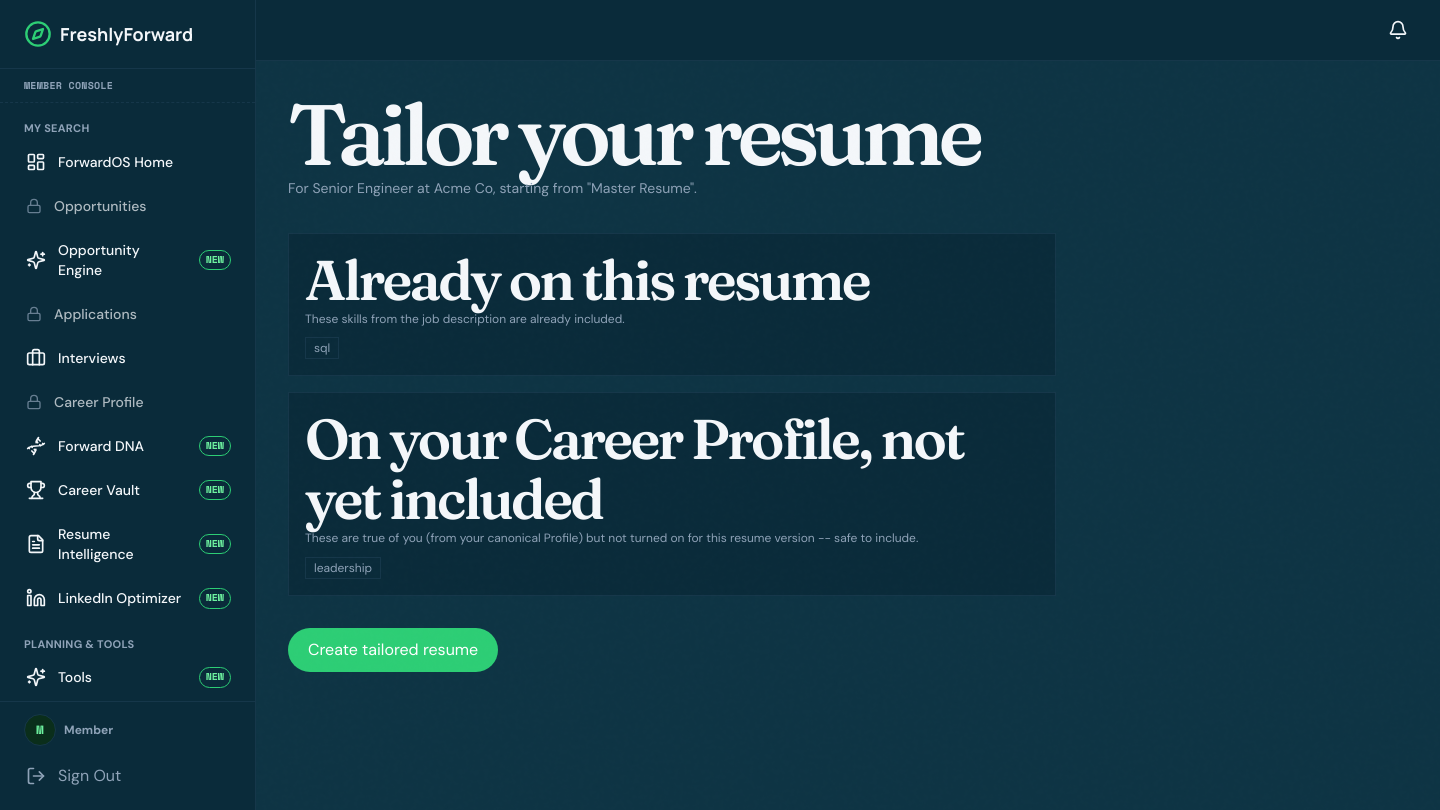
it: ResumeTailorPage › surfaces an error if creating the tailored version fails, without navigating away
Step 1. Click the button "Create tailored resume" → (393, 650), box x1=288 y1=628 x2=498 y2=672
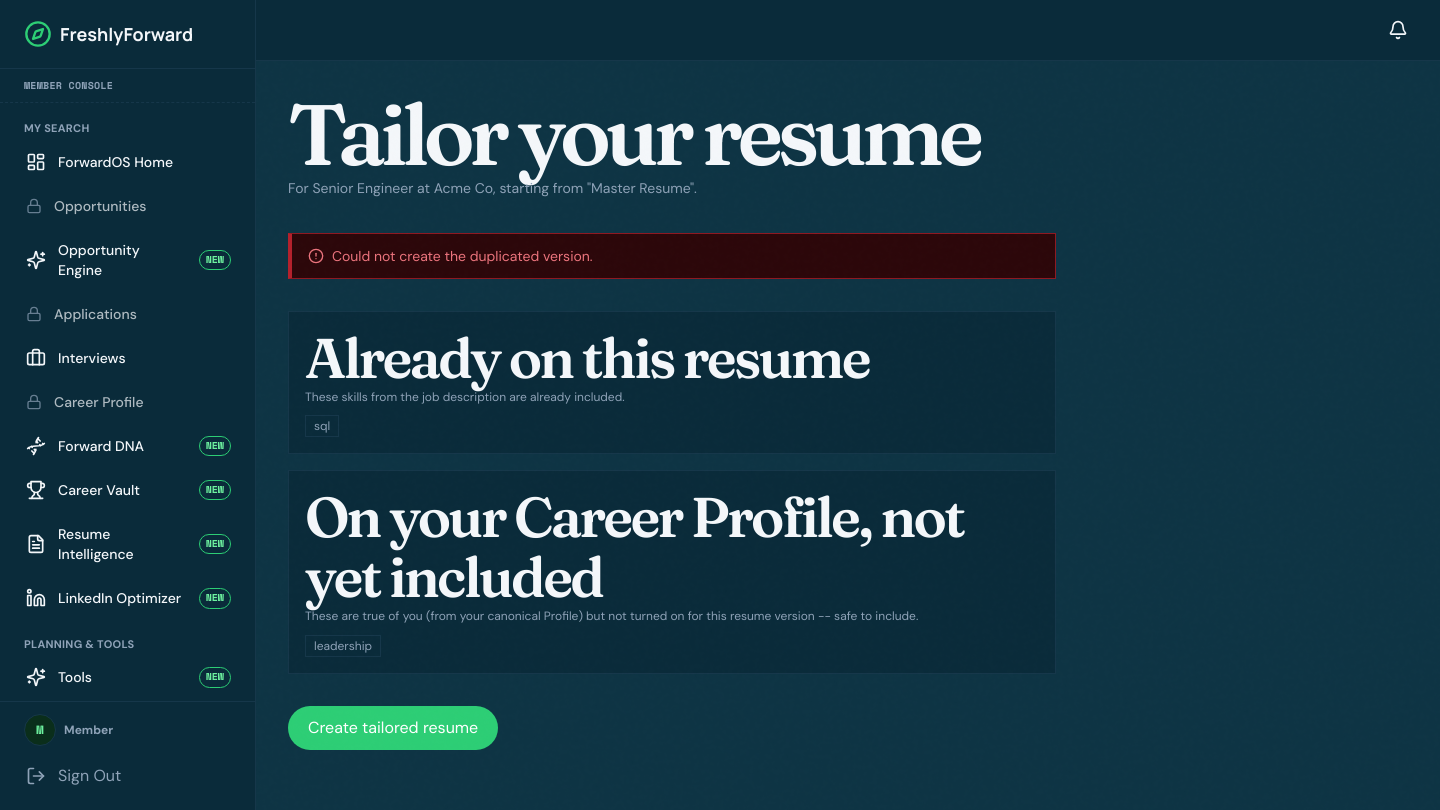
expect the text "Could not create the duplicated version." is shown: met, box x1=332 y1=246 x2=593 y2=266
